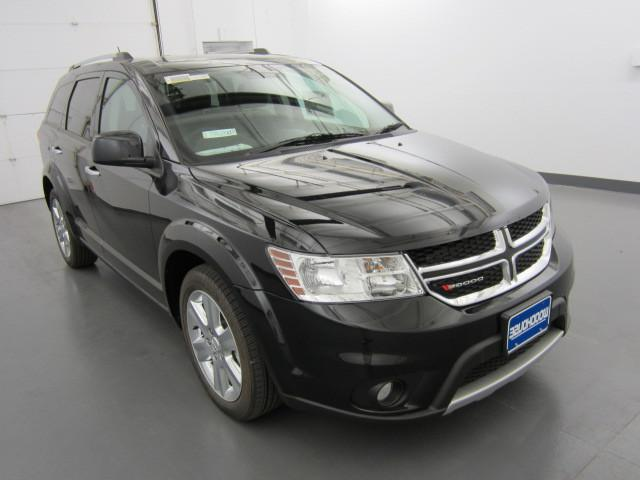Car: (16, 26, 592, 448)
